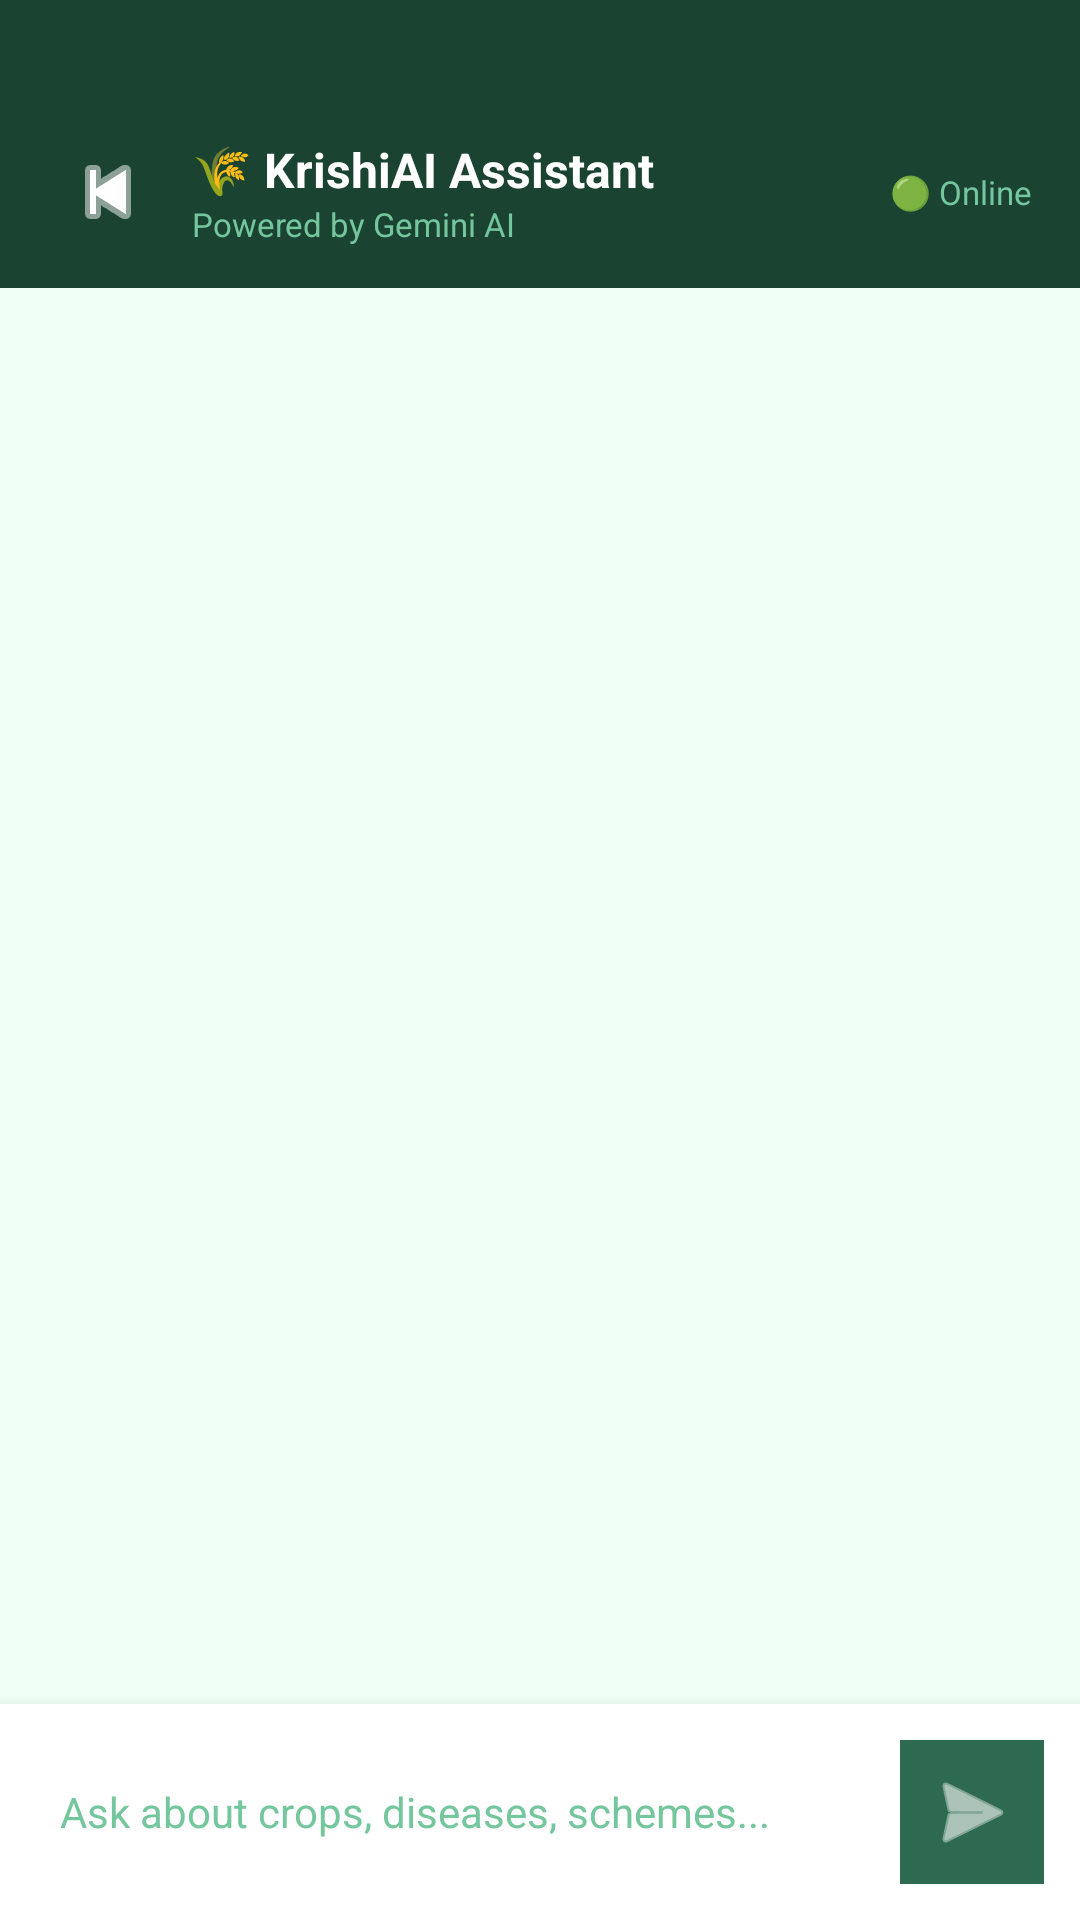

Where icons sit on this 1080px×1920px app screen, as (x1, y1, x2, y2):
previous: (85, 165, 131, 219)
send: (900, 1740, 1044, 1884)
